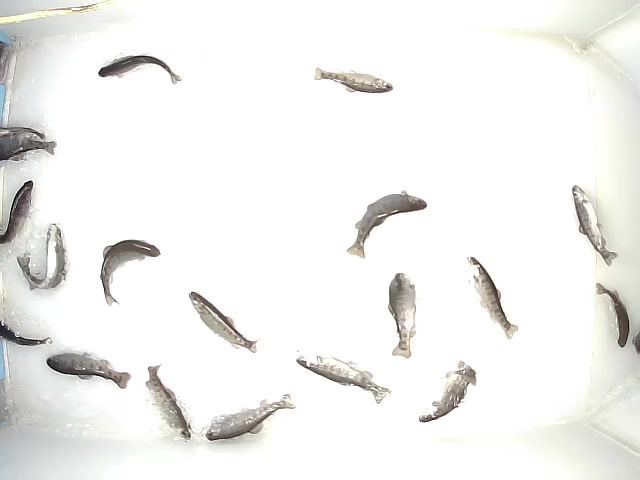fish: (346, 188, 429, 261), (462, 253, 522, 341), (296, 350, 393, 404), (186, 289, 259, 353), (97, 239, 163, 307), (202, 391, 295, 438), (570, 183, 618, 269), (142, 360, 193, 440), (416, 362, 476, 424), (43, 349, 133, 389), (15, 220, 65, 292), (96, 49, 182, 85), (384, 273, 418, 360), (312, 65, 395, 96), (596, 280, 630, 348)
